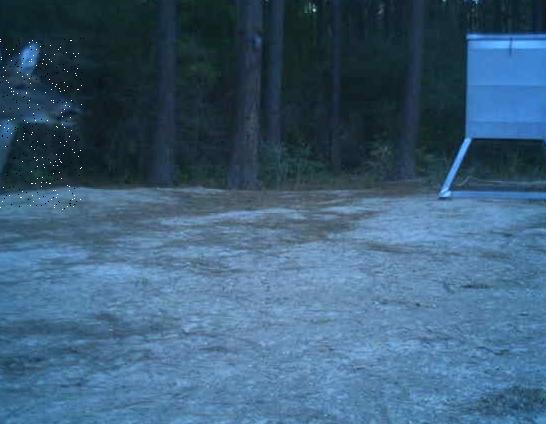Deer: (0, 38, 82, 210)
